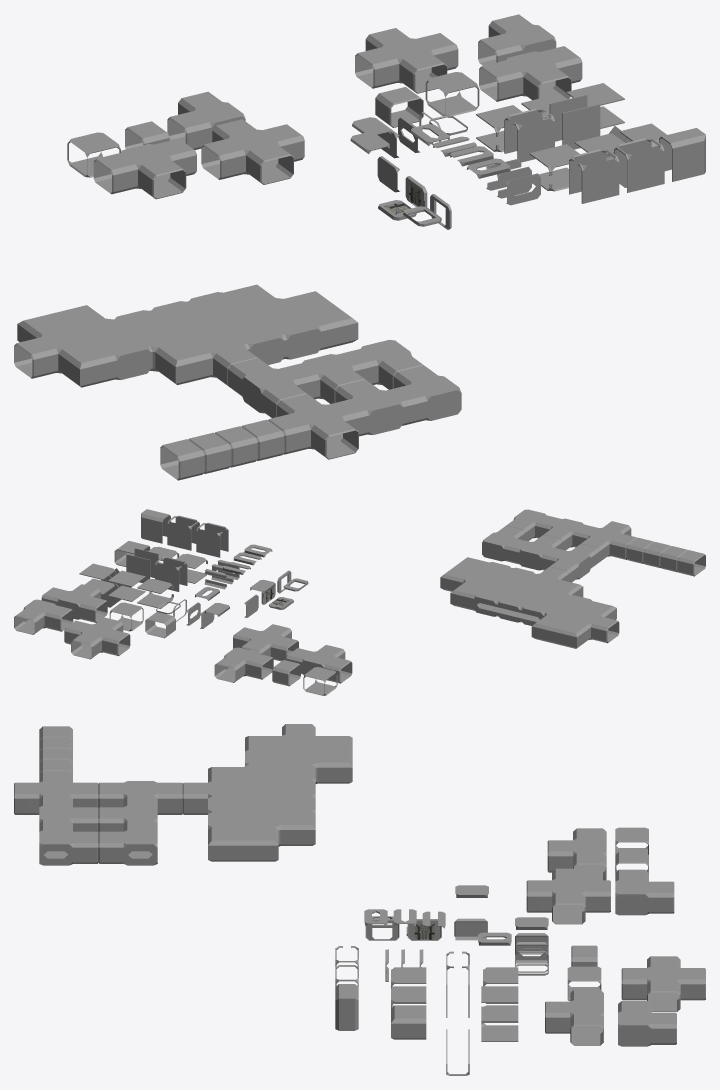
The model's file is all.glb.
3 renders of one model, top to bottom at view 1: azimuth 30°, elevation 25°; view 2: azimuth 150°, elevation 25°; view 3: azimuth 270°, elevation 25°, orthographic. The views are drawn at different scales.
Visible parts, largest first — view 1: Plane.001, junction s, junction s.001, t piece s, t piece s.001, curve s, junction, room corner.006, room corner.005, t piece.001, middle s, room corner.002 (+39 smaller); view 2: Plane.001, junction s, junction s.001, t piece s, curve s, t piece s.001, junction, room corner.008, t piece.001, room middle, room window long, room in corner (+37 smaller); view 3: Plane.001, junction s, t piece s, junction s.001, curve s, t piece s.001, junction, t piece.001, curve.003, room in corner, room corner, room corner.002 (+39 smaller).
Part boxes in pixels (x1,y1,x2,y2): Plane.001: (350, 94, 705, 226); junction s: (355, 28, 458, 93); junction s.001: (268, 394, 369, 459); t piece s: (479, 46, 582, 101); t piece s.001: (228, 358, 320, 418); curve s: (478, 14, 556, 65); junction: (203, 119, 301, 161); room corner.006: (59, 342, 115, 387); room corner.005: (155, 339, 211, 384); t piece.001: (95, 138, 193, 176); middle s: (425, 72, 479, 115); room corner.002: (302, 304, 358, 349); Plane.001: (101, 509, 308, 616); junction s: (64, 617, 130, 659); junction s.001: (572, 521, 636, 561); t piece s: (41, 584, 107, 622); curve s: (14, 599, 73, 634); t piece s.001: (541, 544, 599, 582); junction: (235, 624, 297, 651); room corner.008: (554, 620, 590, 648); t piece.001: (288, 645, 350, 668); room middle: (108, 570, 145, 601); room window long: (137, 579, 173, 608); room in corner: (79, 563, 116, 594); Plane.001: (335, 885, 548, 1075); junction s: (621, 956, 705, 1011); t piece s: (545, 989, 603, 1045); junction s.001: (14, 771, 98, 814); curve s: (618, 1001, 676, 1046); t piece s.001: (98, 781, 182, 814); junction: (526, 868, 610, 904); t piece.001: (547, 828, 606, 864); curve.003: (615, 870, 674, 915); room in corner: (481, 1005, 518, 1041); room corner: (391, 1005, 426, 1039); room corner.002: (208, 827, 243, 861).
Size of the model in its own units: 67.67 by 8.69 by 65.55.
Materials: 8 (1 with a texture image).
